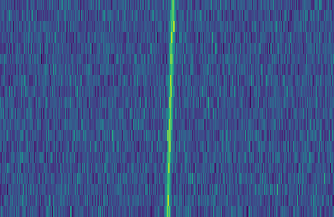signal: (163, 0, 176, 217)
